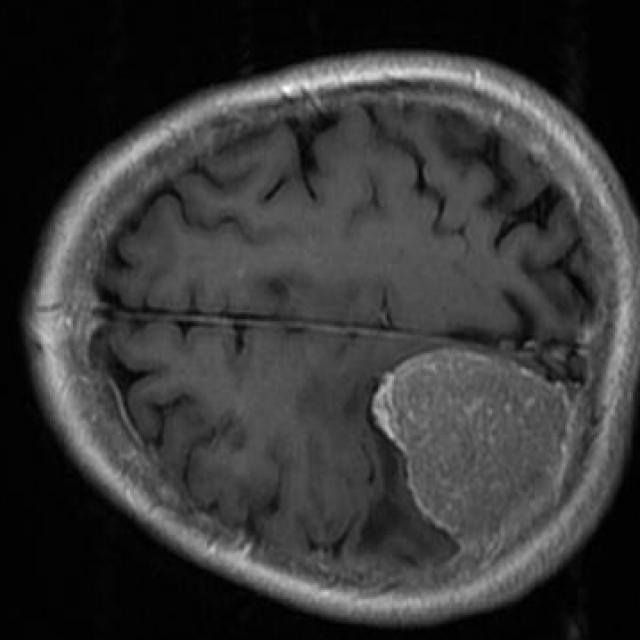meningioma: (371, 349, 572, 556)
